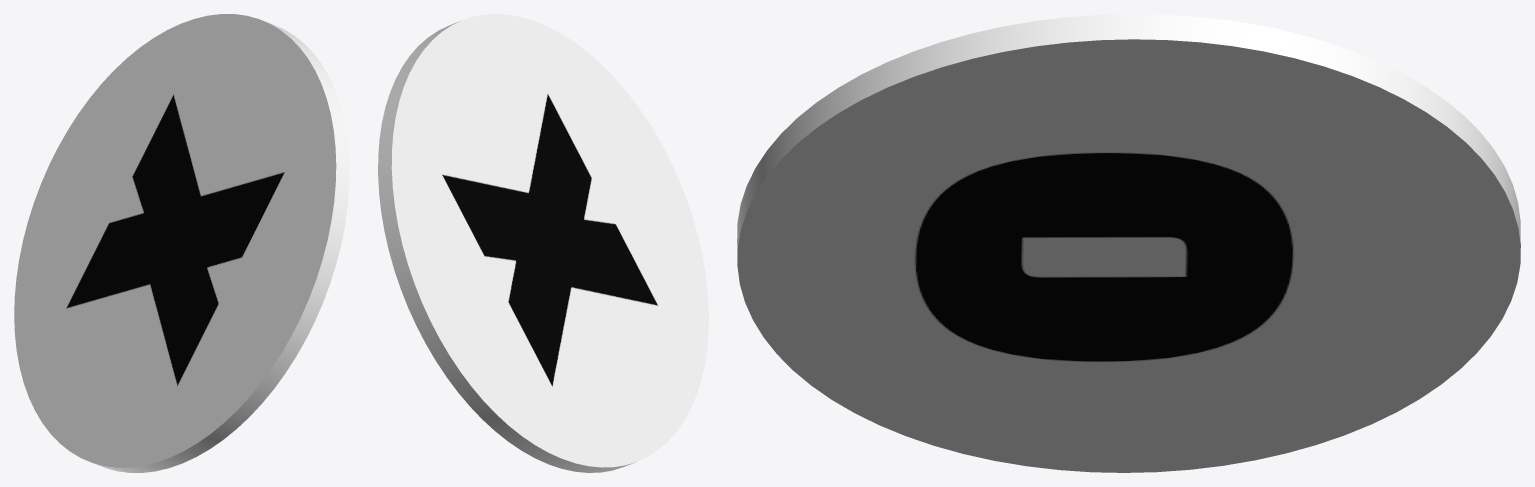
The model's file is moneda_.FBX.
3 views of the same model, side by side, from view 1: azimuth 30°, elevation 25°; view 2: azimuth 150°, elevation 25°; view 3: azimuth 270°, elevation 25° (orthographic). The views are drawn at different scales.
Visible parts, largest first — view 1: Cylinder001; view 2: Cylinder001; view 3: Cylinder001.
Boxes of the visible parts, box(x1,y1,x2,y2) form: Cylinder001: box(14, 14, 349, 472); Cylinder001: box(378, 14, 708, 472); Cylinder001: box(737, 14, 1520, 472).
Size of the model in its own units: 21.49 by 33.87 by 38.76.
